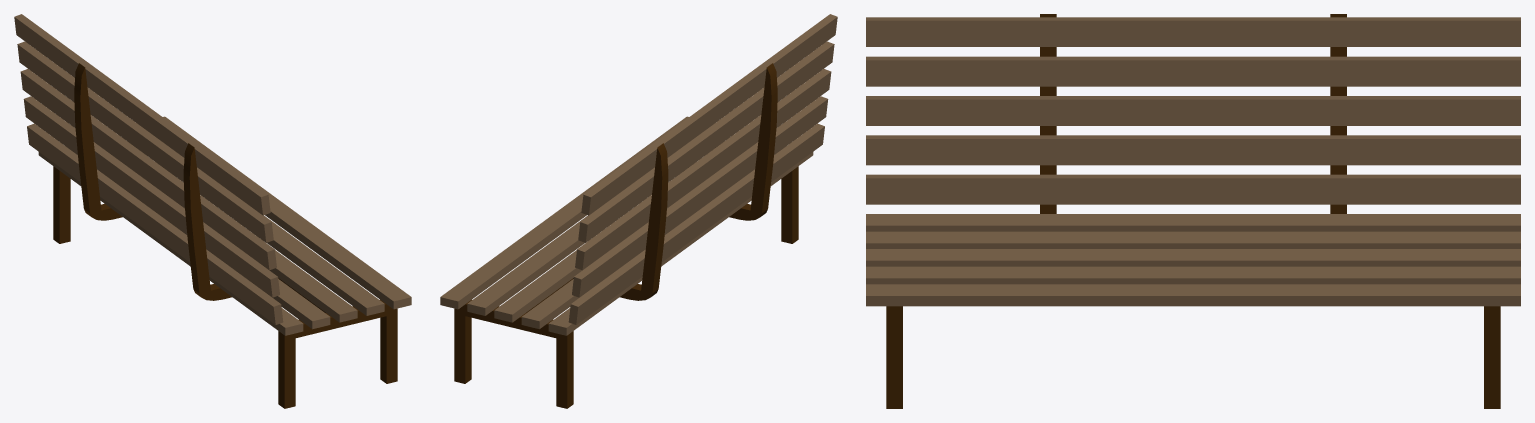
The model's file is Bench.fbx.
The picture shows the model from 3 angles, left to right: view 1: azimuth 30°, elevation 25°; view 2: azimuth 150°, elevation 25°; view 3: azimuth 270°, elevation 25°; orthographic projection. The views are drawn at different scales.
Parts seen in each view (by area): view 1: BenchPlates, Bench; view 2: BenchPlates, Bench; view 3: BenchPlates, Bench.
Part boxes in pixels (x1,y1,x2,y2): BenchPlates: (14,14,411,335); Bench: (53,63,397,408); BenchPlates: (440,14,837,335); Bench: (454,63,798,408); BenchPlates: (866,17,1520,306); Bench: (886,14,1500,408).
Bounding box in the file's own units: 140 × 195 × 384.
